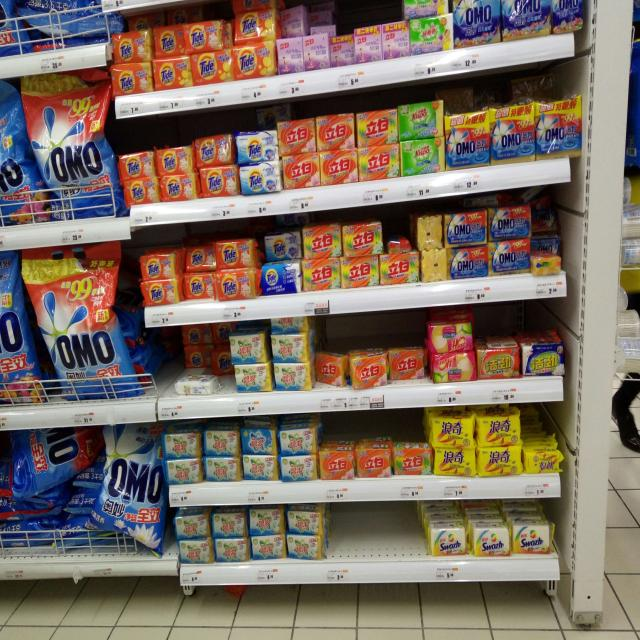void: (142, 327, 172, 420), (393, 504, 423, 590), (358, 506, 388, 588), (333, 508, 356, 588)
